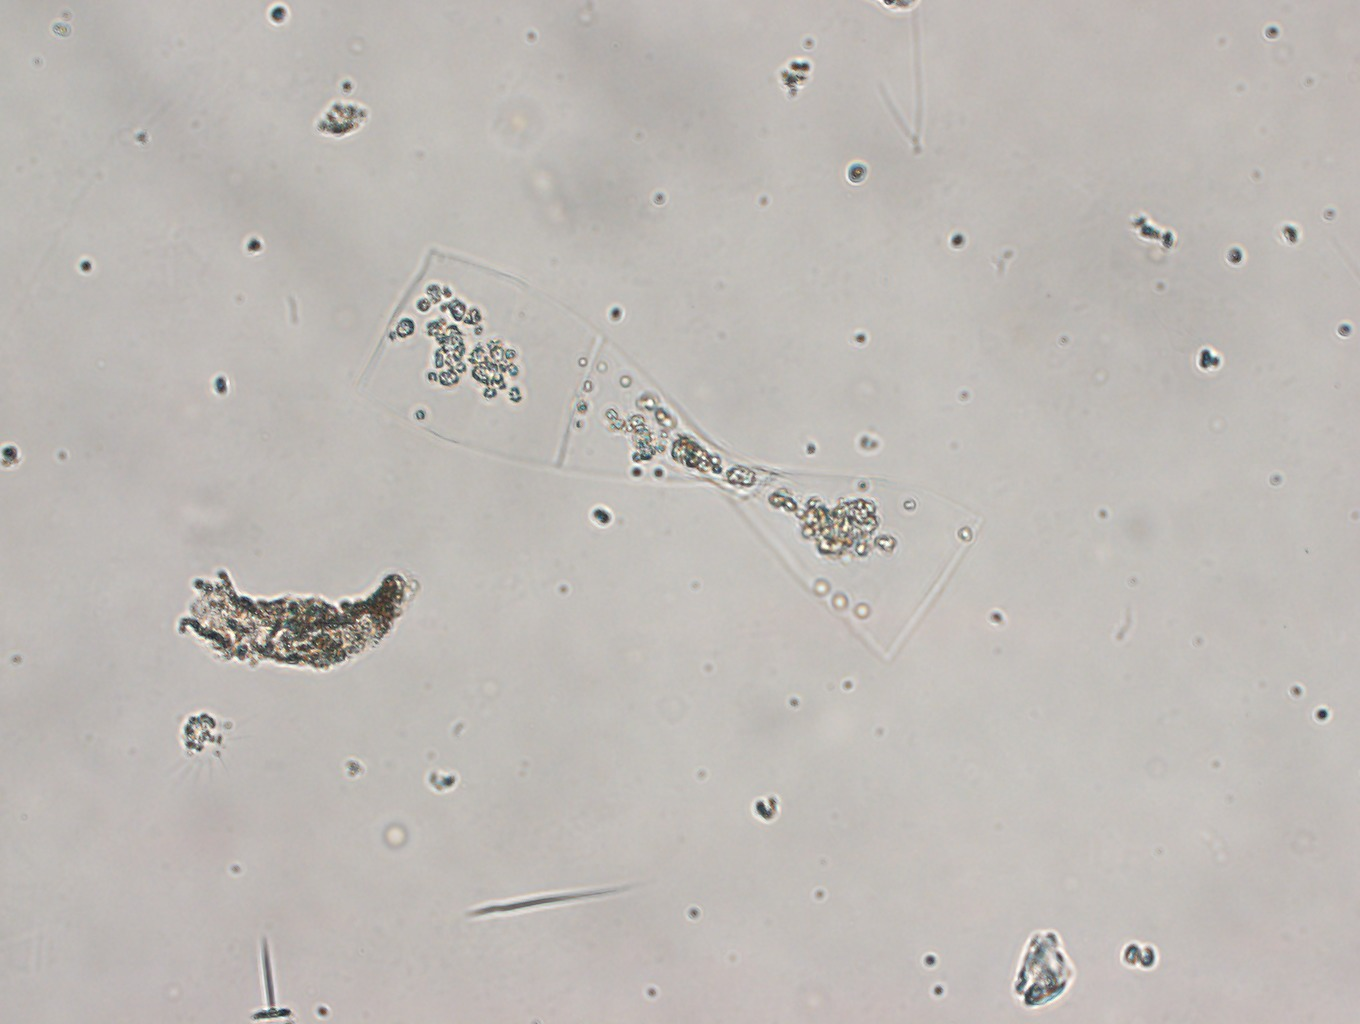helicotheca: (355, 248, 985, 664)
